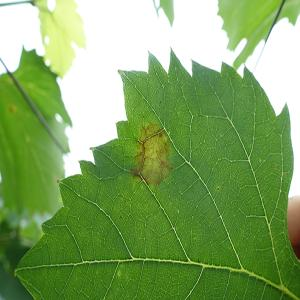Folha: (14, 47, 299, 300), (0, 38, 74, 211)
Fungo: (129, 120, 173, 189), (7, 99, 18, 115), (216, 186, 220, 190)
